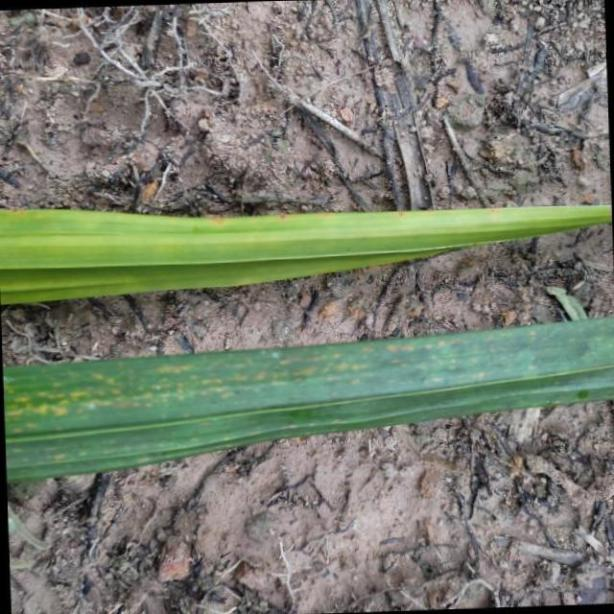nitrogen: (0, 312, 614, 476), (1, 195, 614, 307)
